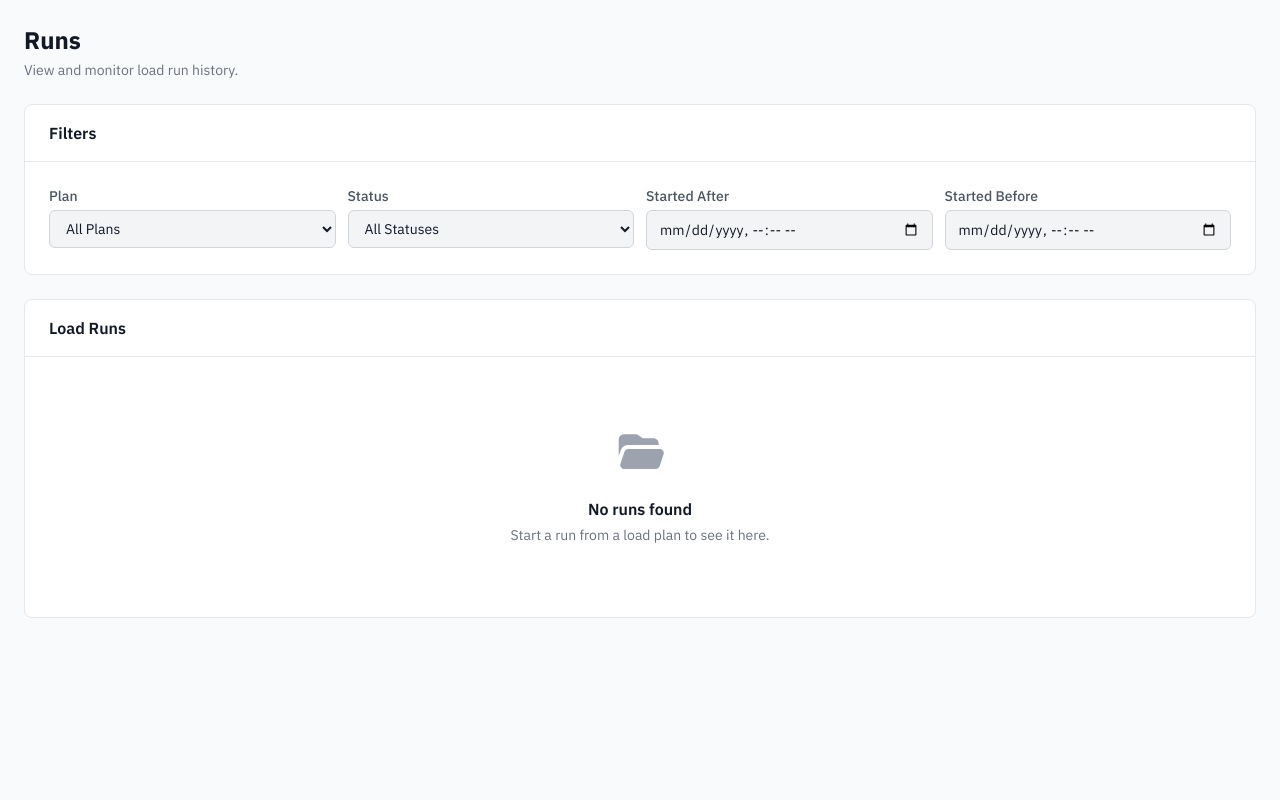
Test: RunsPage › hides clear filters button after clearing
Step 1. Select "running" in the dropdown named "Filter by status" → (491, 229), box [348,210,634,248]
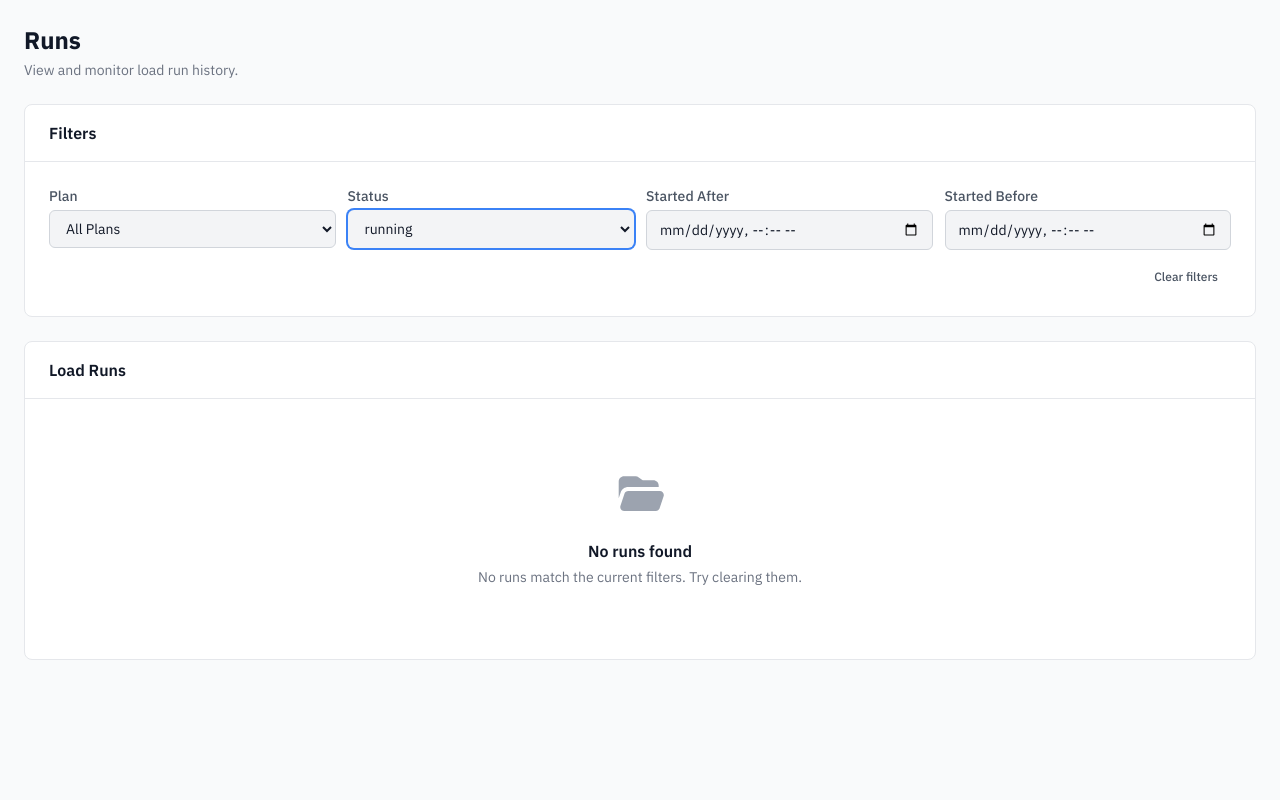
Step 2. Click the button "Clear filters" → (1186, 277), box [1141,262,1231,292]
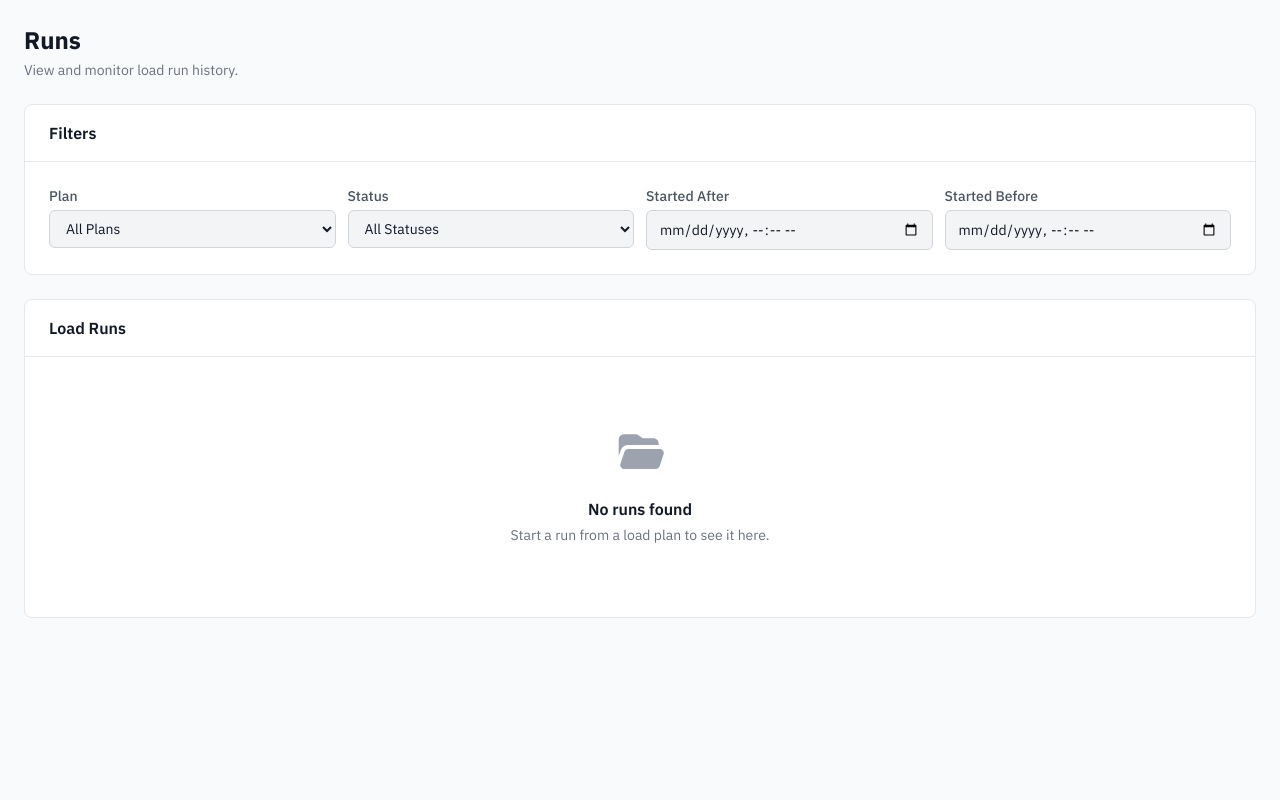
Now the button "Clear filters" is gone
